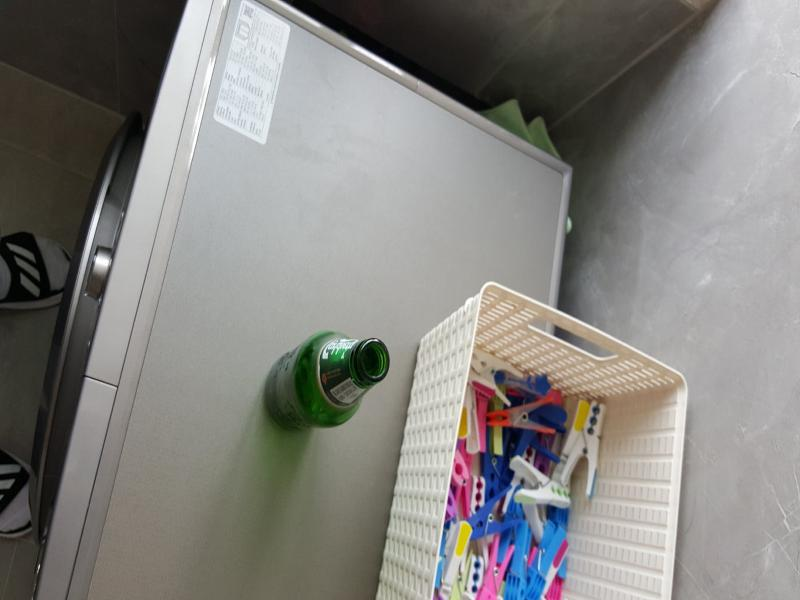Beer: (262, 337, 388, 430)
